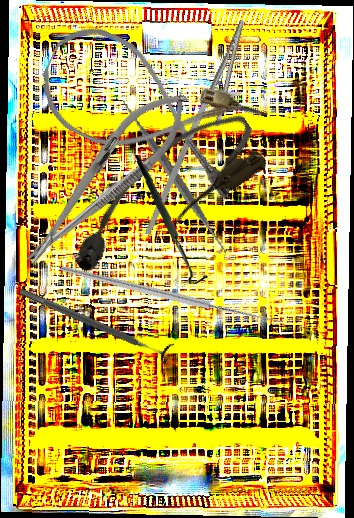Cannula: (26, 14, 269, 205), (49, 99, 275, 286)
Fixation Ring: (15, 279, 175, 366)
Hook Surgical: (57, 174, 293, 409), (128, 154, 214, 285)
Needle Holder: (8, 75, 204, 280), (144, 11, 262, 249)
Spatula Surgical: (87, 90, 262, 264)
